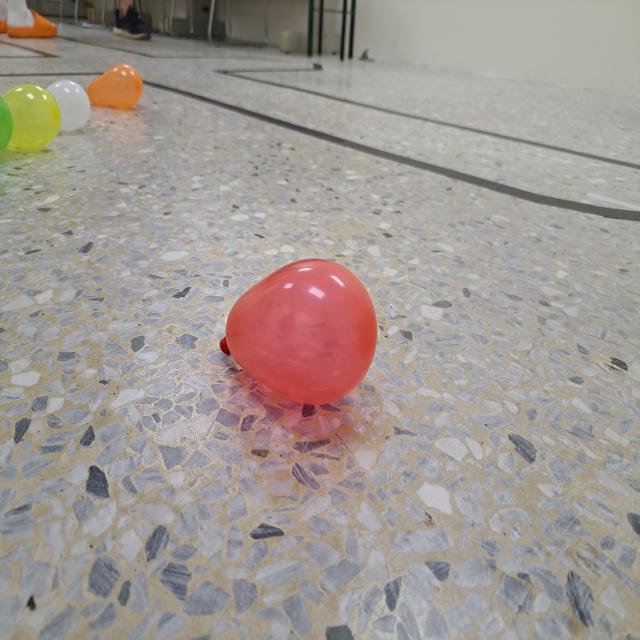other: (4, 85, 61, 152), (86, 61, 144, 110), (49, 81, 92, 131), (0, 98, 11, 158)
red: (217, 257, 376, 409)
